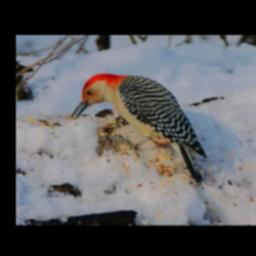Woodpecker: (69, 72, 210, 189)
